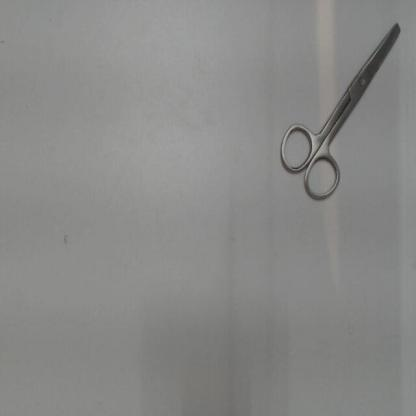Dressing Scissors: (268, 10, 411, 212)
